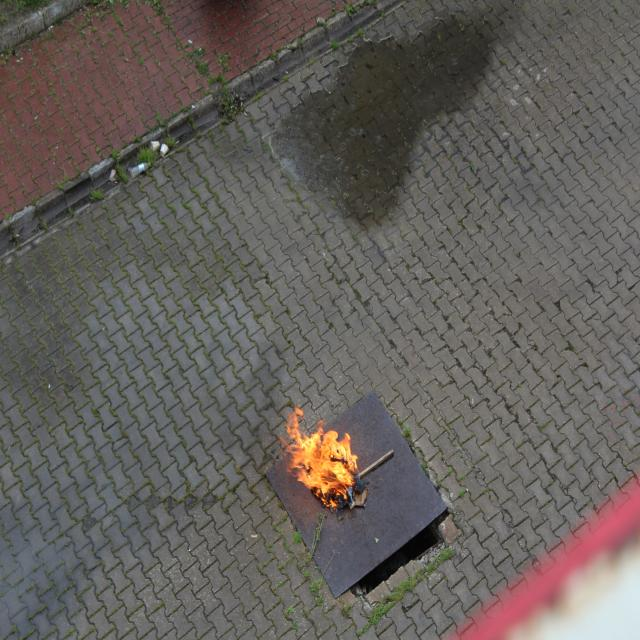fire: (283, 402, 356, 515)
